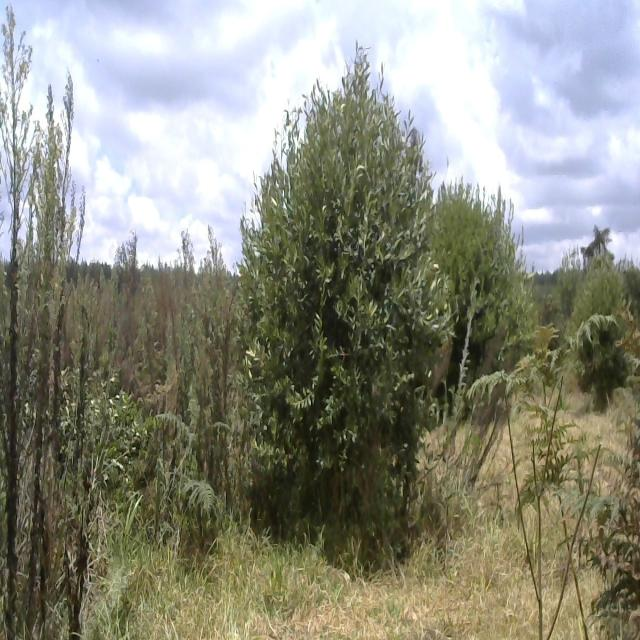Juniperus procesera: (566, 260, 635, 404)
Olea europea -africana-: (232, 27, 453, 569), (432, 144, 532, 393)
